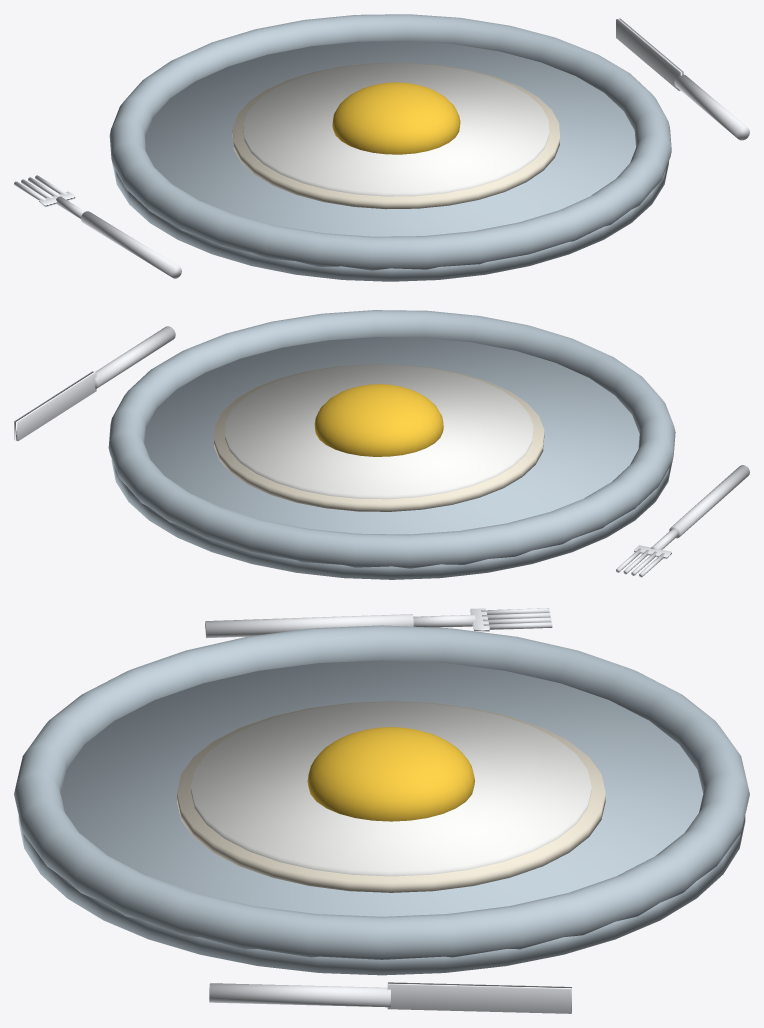
File: plate_with_egg.glb
3 views of the same model, one above another, from view 1: azimuth 30°, elevation 25°; view 2: azimuth 150°, elevation 25°; view 3: azimuth 270°, elevation 25° (orthographic). The views are drawn at different scales.
Visible parts, largest first — view 1: Cylinder, Torus, Cylinder.002, Sphere, Cylinder.001, Cylinder.003, Cube.001, Cylinder.009; view 2: Cylinder, Torus, Cylinder.002, Sphere, Cylinder.001, Cube.001, Cylinder.009, Cylinder.003; view 3: Cylinder, Torus, Cylinder.002, Sphere, Cylinder.001, Cube.001, Cylinder.009, Cylinder.003, Cylinder.004.
Part boxes in pixels (<box>): Cylinder: <box>112,41,668,281</box>; Torus: <box>109,14,671,270</box>; Cylinder.002: <box>243,63,549,196</box>; Sphere: <box>332,82,460,154</box>; Cylinder.001: <box>232,62,559,209</box>; Cylinder.003: <box>81,211,181,278</box>; Cube.001: <box>616,18,683,90</box>; Cylinder.009: <box>674,74,749,140</box>; Cylinder: <box>111,337,672,579</box>; Torus: <box>108,310,675,568</box>; Cylinder.002: <box>225,364,533,499</box>; Sphere: <box>314,384,443,456</box>; Cylinder.001: <box>214,364,544,511</box>; Cube.001: <box>14,371,96,441</box>; Cylinder.009: <box>95,326,175,389</box>; Cylinder.003: <box>669,465,749,538</box>; Cylinder: <box>18,660,745,975</box>; Torus: <box>14,625,749,959</box>; Cylinder.002: <box>191,702,591,876</box>; Sphere: <box>307,727,474,821</box>; Cylinder.001: <box>177,701,605,892</box>; Cube.001: <box>387,982,571,1013</box>; Cylinder.009: <box>209,983,390,1007</box>; Cylinder.003: <box>205,614,413,638</box>; Cylinder.004: <box>413,614,475,627</box>.
Bounding box in the file's own units: 3.98 × 0.4144 × 3.16.
